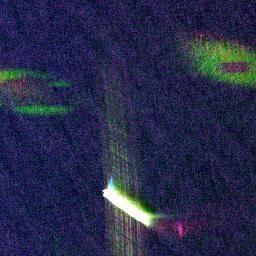Ship: (103, 186, 153, 229)
